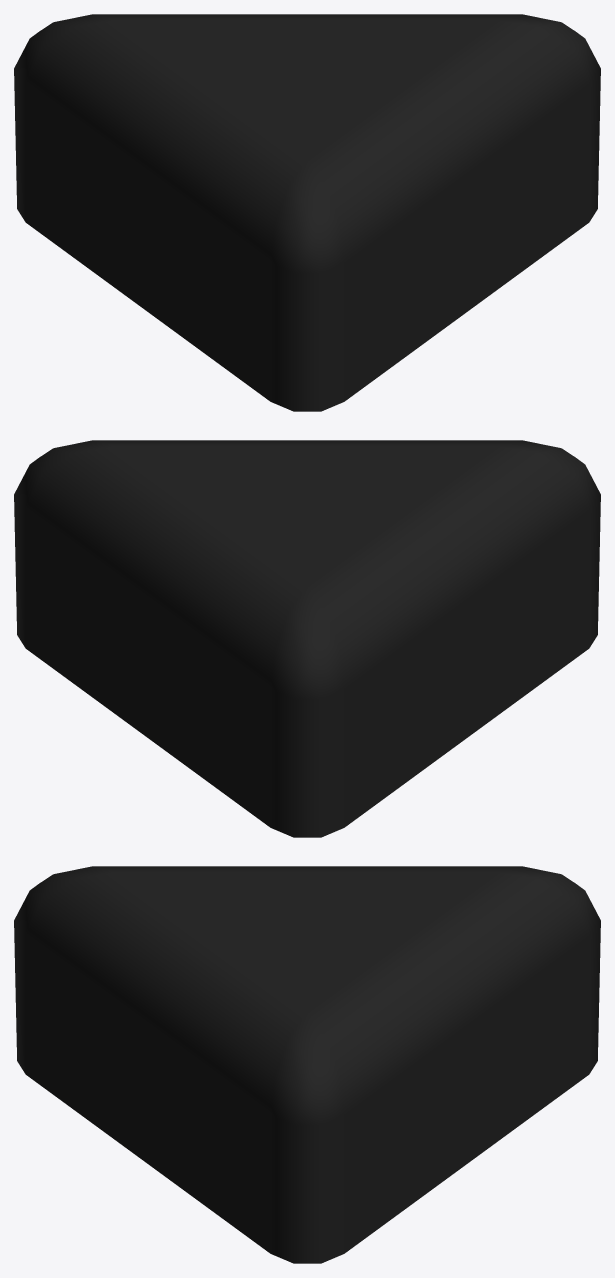
The model's file is Triangle.fbx.
The picture shows the model from 3 angles, top to bottom: view 1: azimuth 30°, elevation 25°; view 2: azimuth 150°, elevation 25°; view 3: azimuth 270°, elevation 25°; orthographic projection.
Visible parts, largest first — view 1: Triangle; view 2: Triangle; view 3: Triangle.
Boxes of the visible parts, box(x1,y1,x2,y2) form: Triangle: box(14, 14, 600, 411); Triangle: box(14, 440, 600, 837); Triangle: box(14, 866, 600, 1263).
Bounding box in the file's own units: 10.46 × 4.63 × 11.92.
